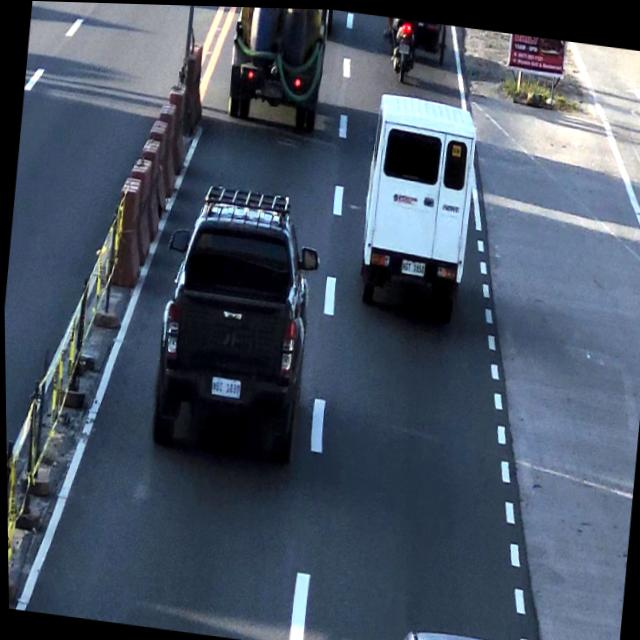Car: (144, 175, 315, 472), (350, 88, 480, 314), (385, 620, 566, 640)
License-Plate: (207, 369, 242, 400), (399, 253, 425, 277)
Motorcycle: (388, 15, 420, 79)
Truck: (223, 5, 331, 129)
